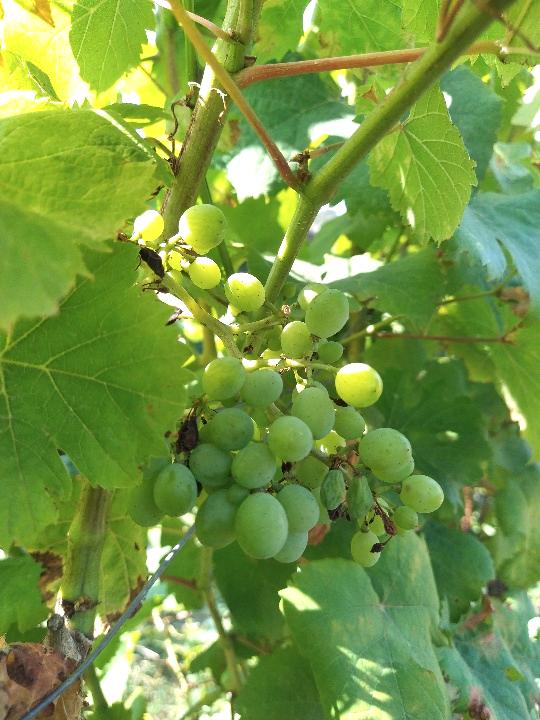grape: (131, 200, 446, 573)
